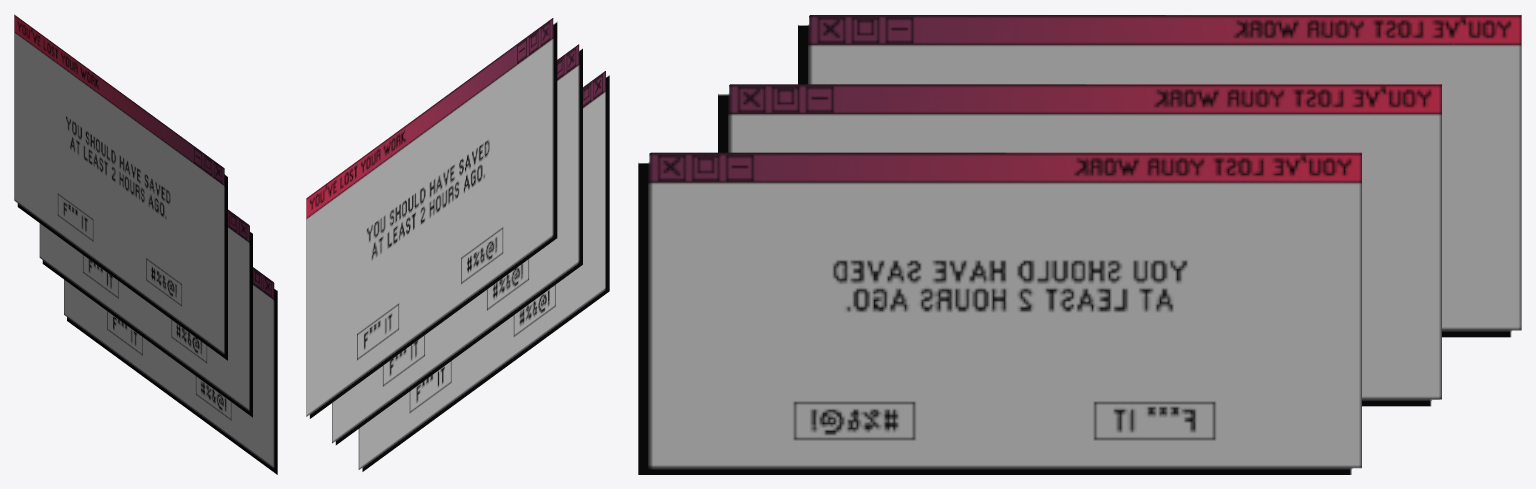
The model's file is Structure_Retro_Frame_Program_06_Art.fbx.
The picture shows the model from 3 angles, left to right: view 1: azimuth 30°, elevation 25°; view 2: azimuth 150°, elevation 25°; view 3: azimuth 270°, elevation 25°; orthographic projection. The views are drawn at different scales.
Visible parts, largest first — view 1: Structure_Retro_Frame_Program_06_Art; view 2: Structure_Retro_Frame_Program_06_Art; view 3: Structure_Retro_Frame_Program_06_Art.
Part boxes in pixels (left/top/right/bottom): Structure_Retro_Frame_Program_06_Art: left=14, top=14, right=277, bottom=474; Structure_Retro_Frame_Program_06_Art: left=306, top=18, right=609, bottom=471; Structure_Retro_Frame_Program_06_Art: left=638, top=15, right=1521, bottom=474.
Size of the model in its own units: 0.023 by 2.48 by 4.33.
